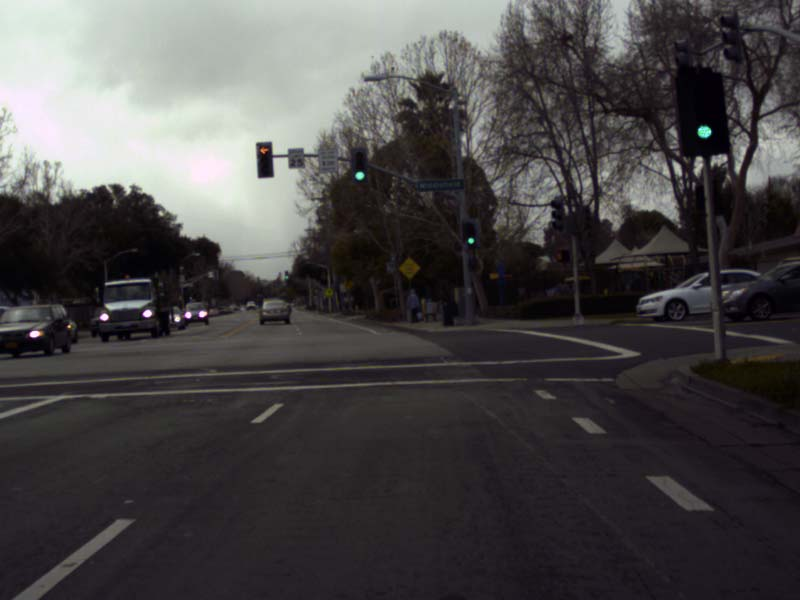Green: (691, 74, 727, 148), (351, 147, 368, 182), (461, 219, 477, 250), (314, 286, 318, 295), (284, 270, 288, 279)
Red: (256, 142, 273, 177)
